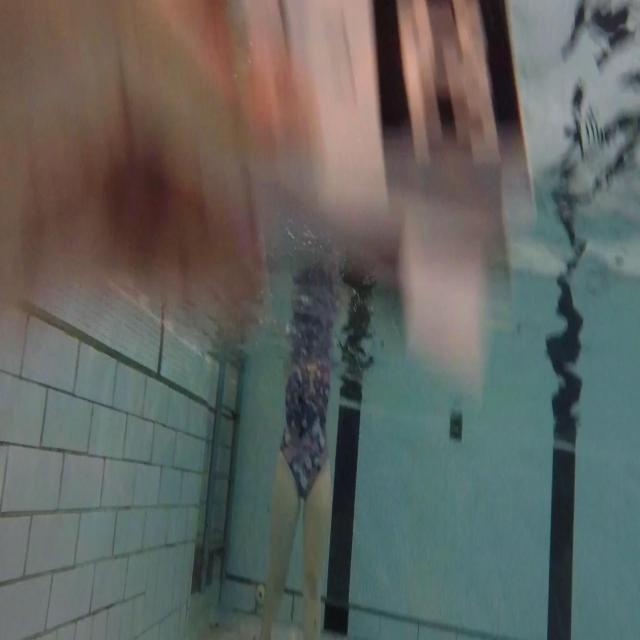human: (257, 259, 340, 638)
